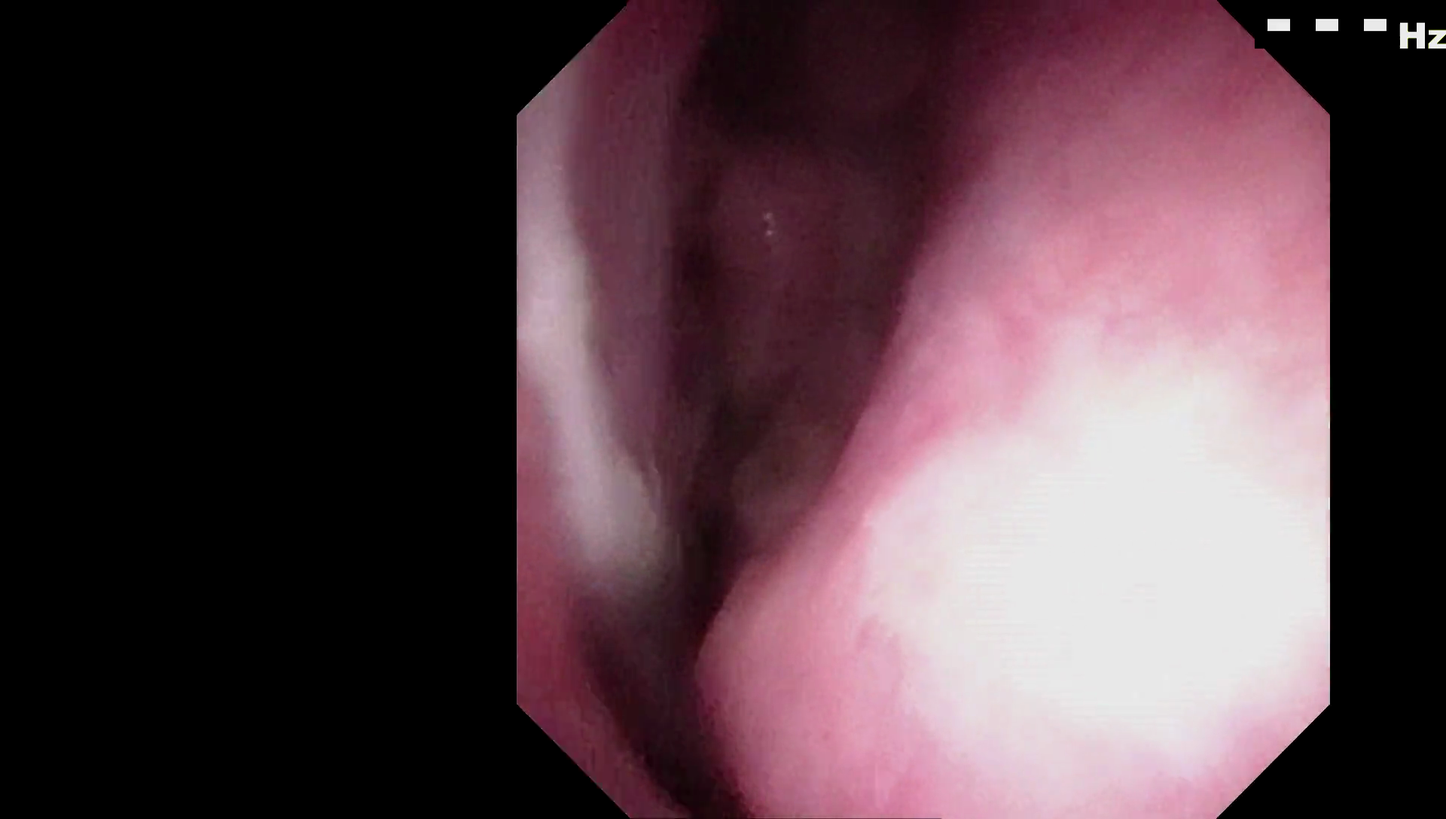close_wall: (836, 333, 1276, 744)
next: (591, 613, 748, 819), (649, 0, 830, 145), (623, 485, 755, 628)
